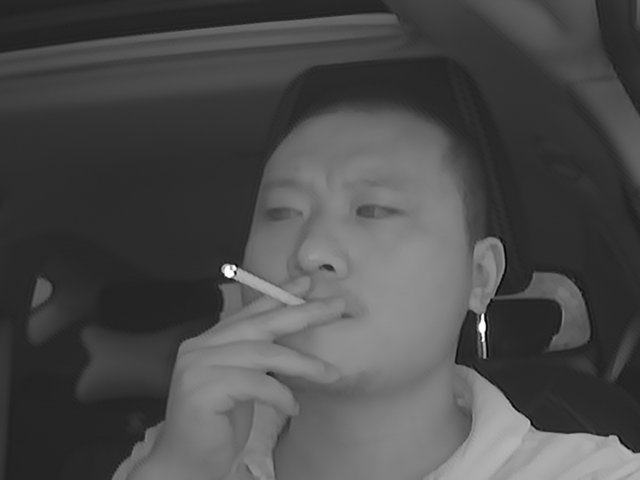hand: (186, 272, 347, 435)
